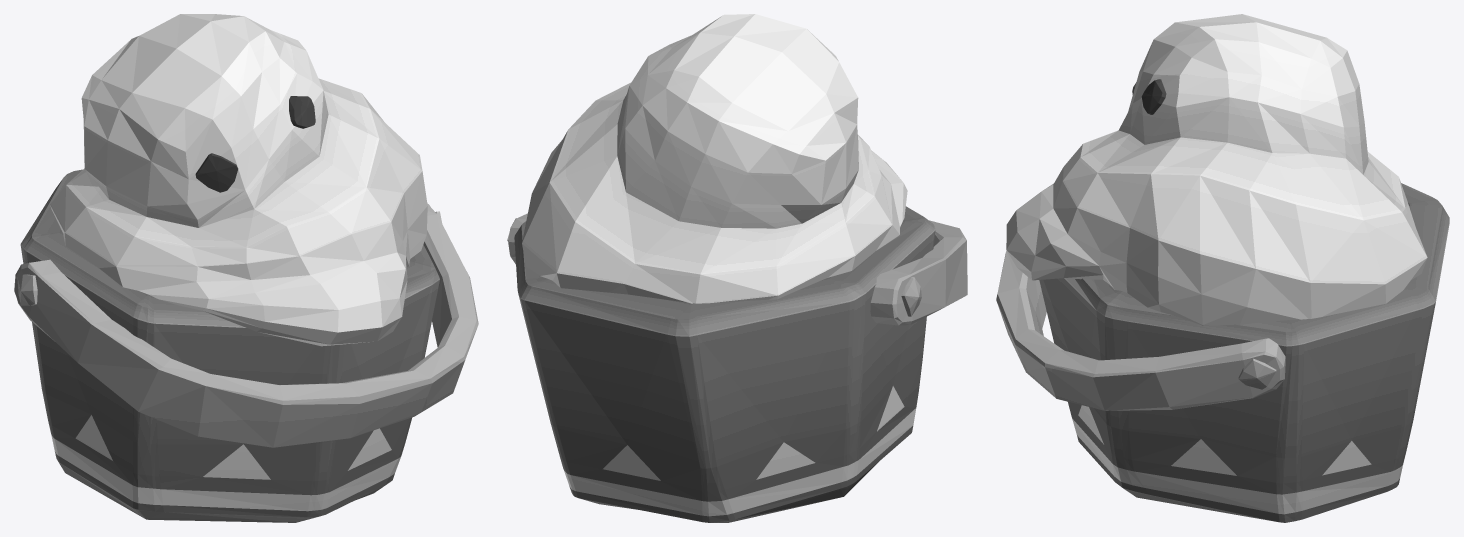
File: CharSkyKid_Prop_Snowman.glb
3 renders of one model, left to right at view 1: azimuth 30°, elevation 25°; view 2: azimuth 150°, elevation 25°; view 3: azimuth 270°, elevation 25°, orthographic. The views are drawn at different scales.
Visible parts, largest first — view 1: CharSkyKid_Prop_Snowman; view 2: CharSkyKid_Prop_Snowman; view 3: CharSkyKid_Prop_Snowman.
Part boxes in pixels (left/top/right/bottom): CharSkyKid_Prop_Snowman: left=14, top=14, right=478, bottom=522; CharSkyKid_Prop_Snowman: left=507, top=14, right=967, bottom=522; CharSkyKid_Prop_Snowman: left=996, top=14, right=1449, bottom=522.
Size of the model in its own units: 3.28 by 3.43 by 3.24.
1 material, 1 textured.
